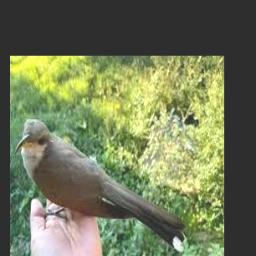Cuckoo: (15, 119, 185, 252)
